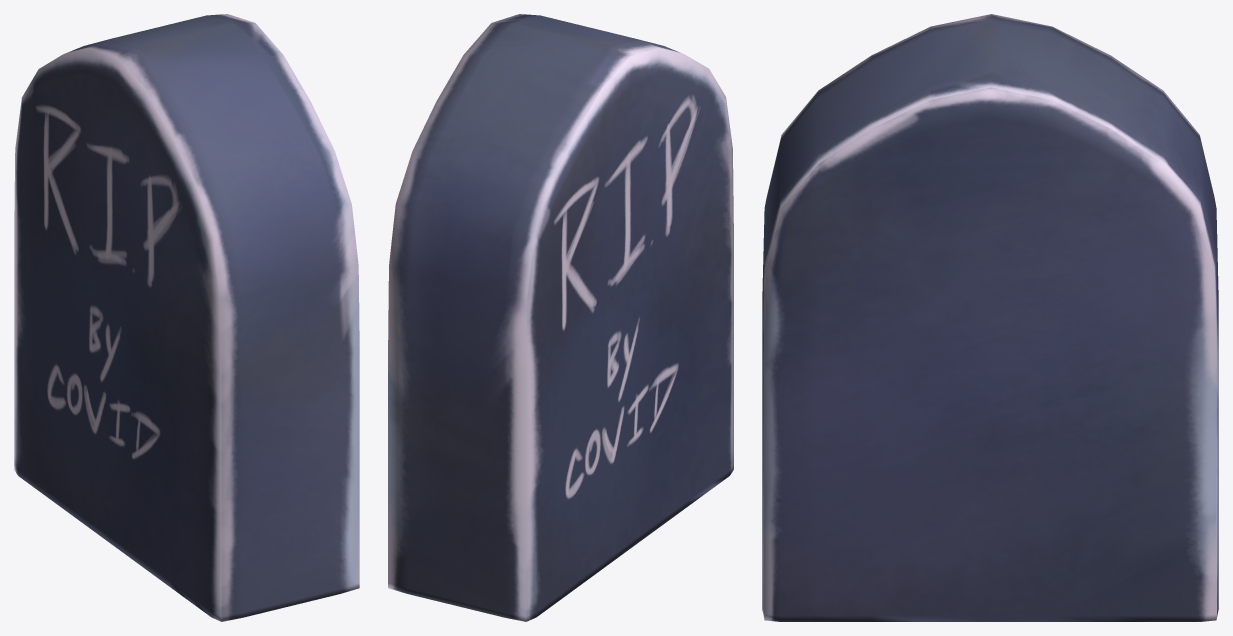
Rendered from grave 1.fbx.
The picture shows the model from 3 angles, left to right: view 1: azimuth 30°, elevation 25°; view 2: azimuth 150°, elevation 25°; view 3: azimuth 270°, elevation 25°; orthographic projection. The views are drawn at different scales.
Visible parts, largest first — view 1: lapida 1; view 2: lapida 1; view 3: lapida 1.
Boxes of the visible parts, box(x1,y1,x2,y2) form: lapida 1: box(14, 14, 359, 621); lapida 1: box(388, 14, 733, 621); lapida 1: box(762, 14, 1218, 621).
Size of the model in its own units: 79.44 by 260 by 200.
1 material, 1 textured.
